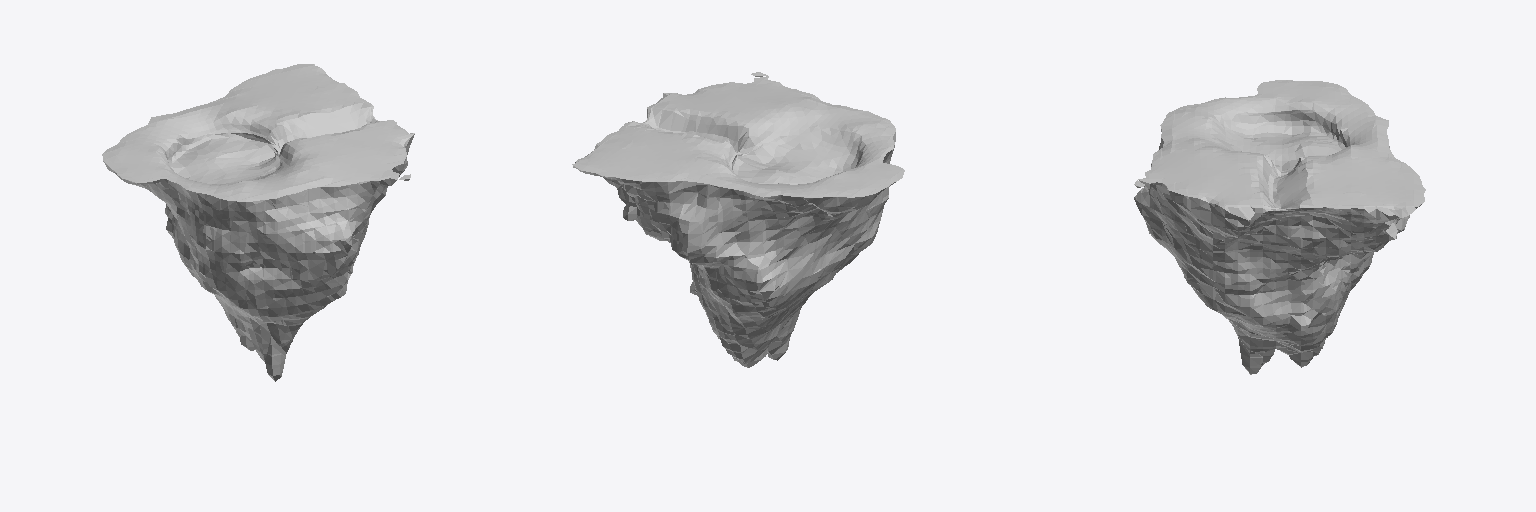
File: IslandTop.obj
The picture shows the model from 3 angles: view 1: azimuth 30°, elevation 25°; view 2: azimuth 150°, elevation 25°; view 3: azimuth 270°, elevation 25°; orthographic projection.
Parts seen in each view (by area): view 1: IslandTop.001; view 2: IslandTop.001; view 3: IslandTop.001.
Boxes of the visible parts, x1=… form: IslandTop.001: x1=102, y1=64, x2=414, y2=381; IslandTop.001: x1=572, y1=72, x2=904, y2=367; IslandTop.001: x1=1134, y1=80, x2=1425, y2=374.
Bounding box in the file's own units: 24.61 × 20.42 × 23.18.